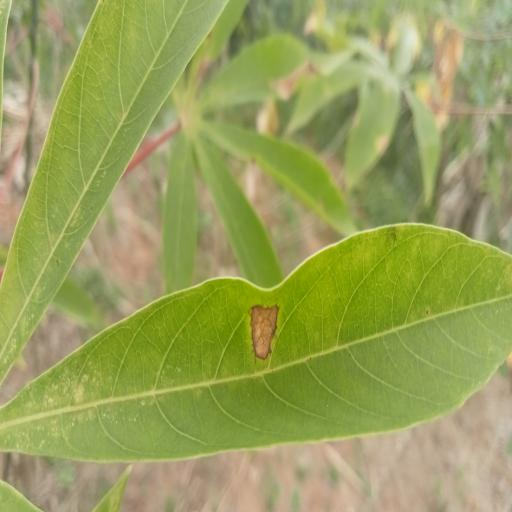Cassava_Brown_Leaf_Spot: (10, 2, 512, 464)
